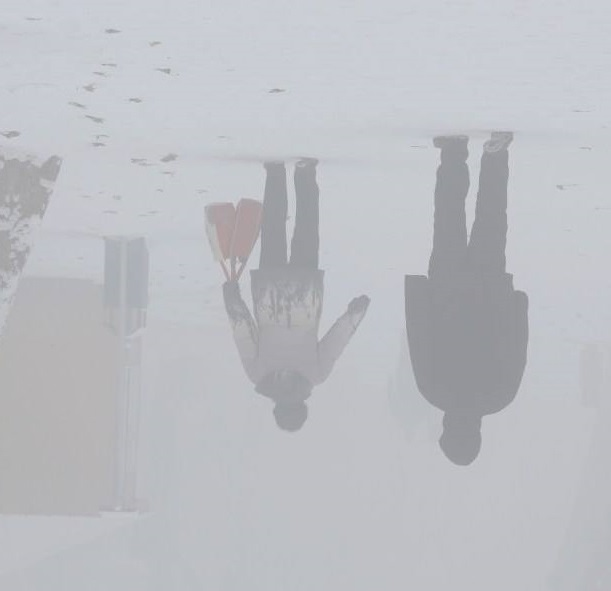person: (402, 133, 529, 469), (226, 155, 373, 436)
